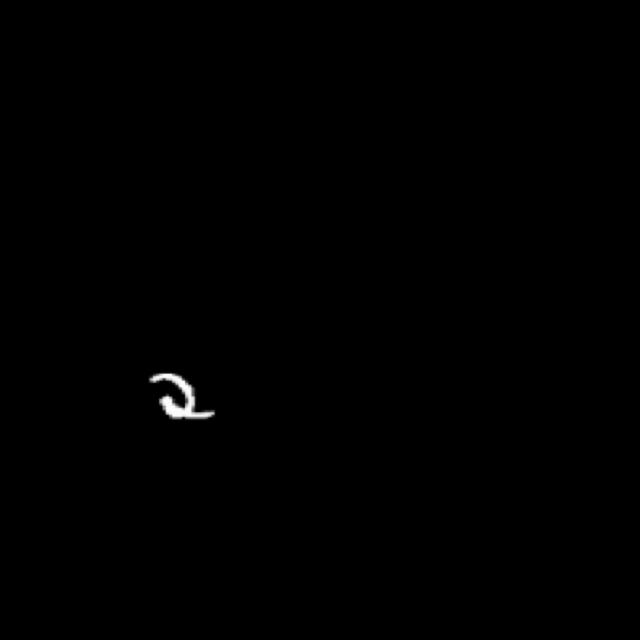two -2-: (129, 366, 229, 430)
